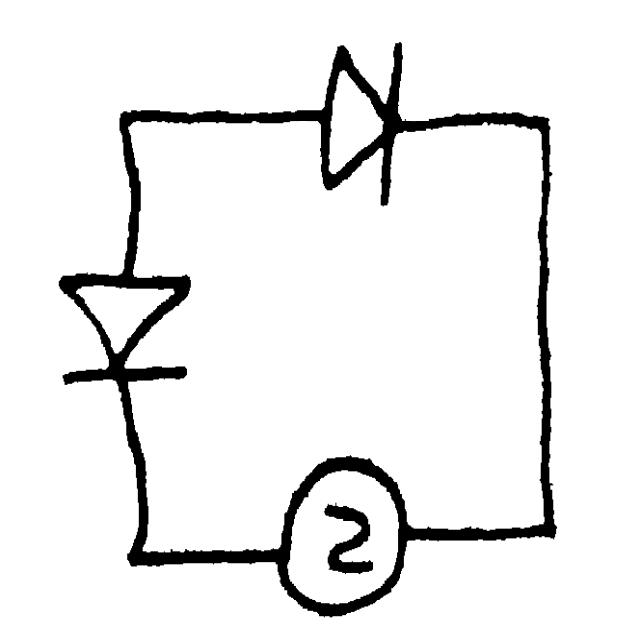ac: (256, 442, 421, 630)
diode: (32, 255, 207, 402), (318, 29, 416, 223)
